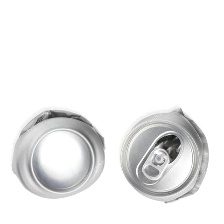can: (114, 101, 214, 211), (8, 105, 110, 198)
